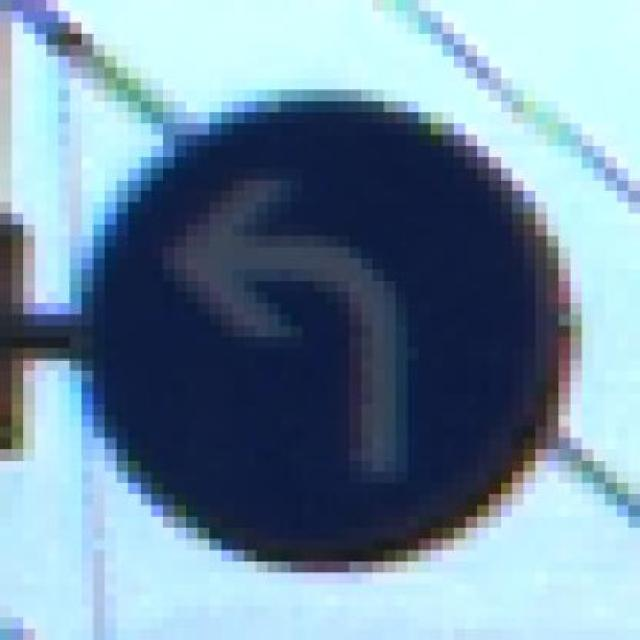Turn left ahead: (58, 90, 582, 573)
